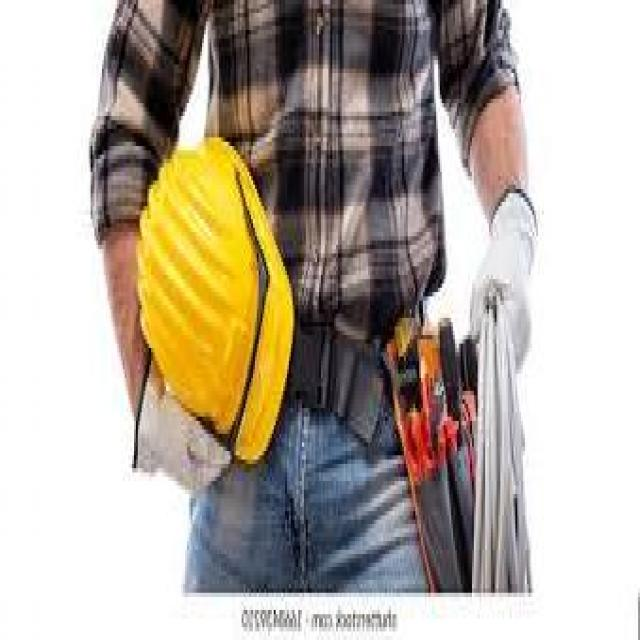Reflective-Jacket: (124, 120, 310, 481)
Safety-Helmet: (121, 120, 306, 468)
